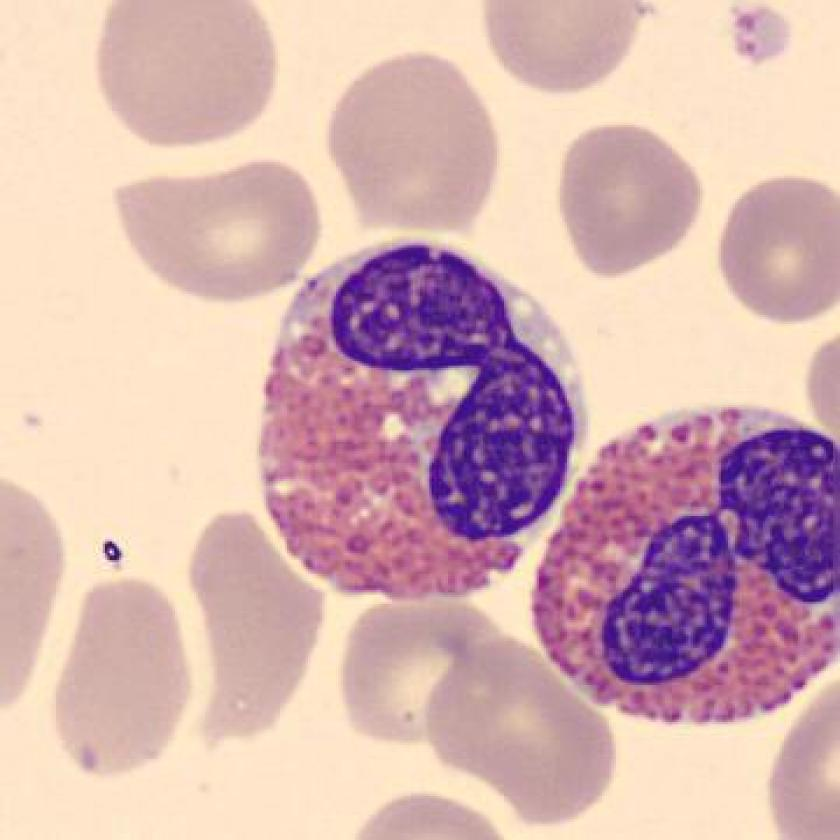eosinophil: (251, 221, 596, 621)
